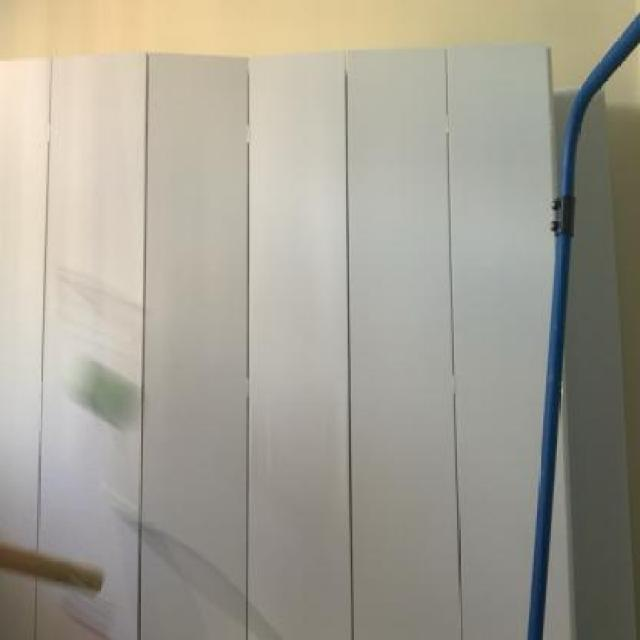baseball: (42, 340, 153, 445)
